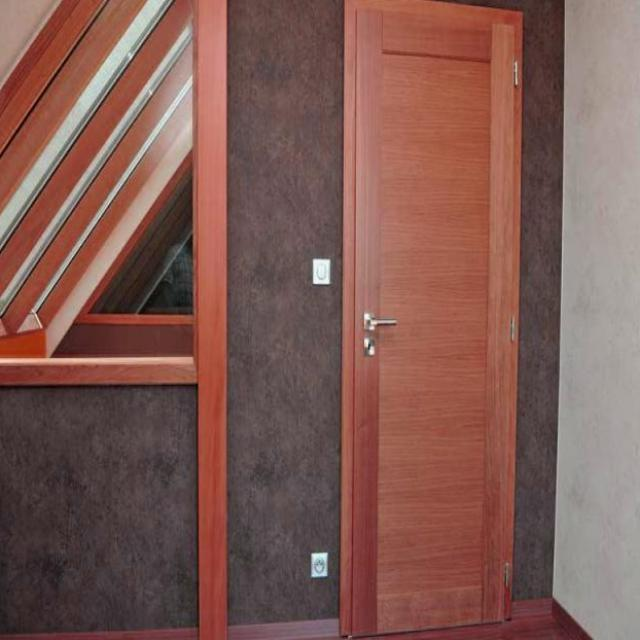door: (338, 0, 523, 638)
